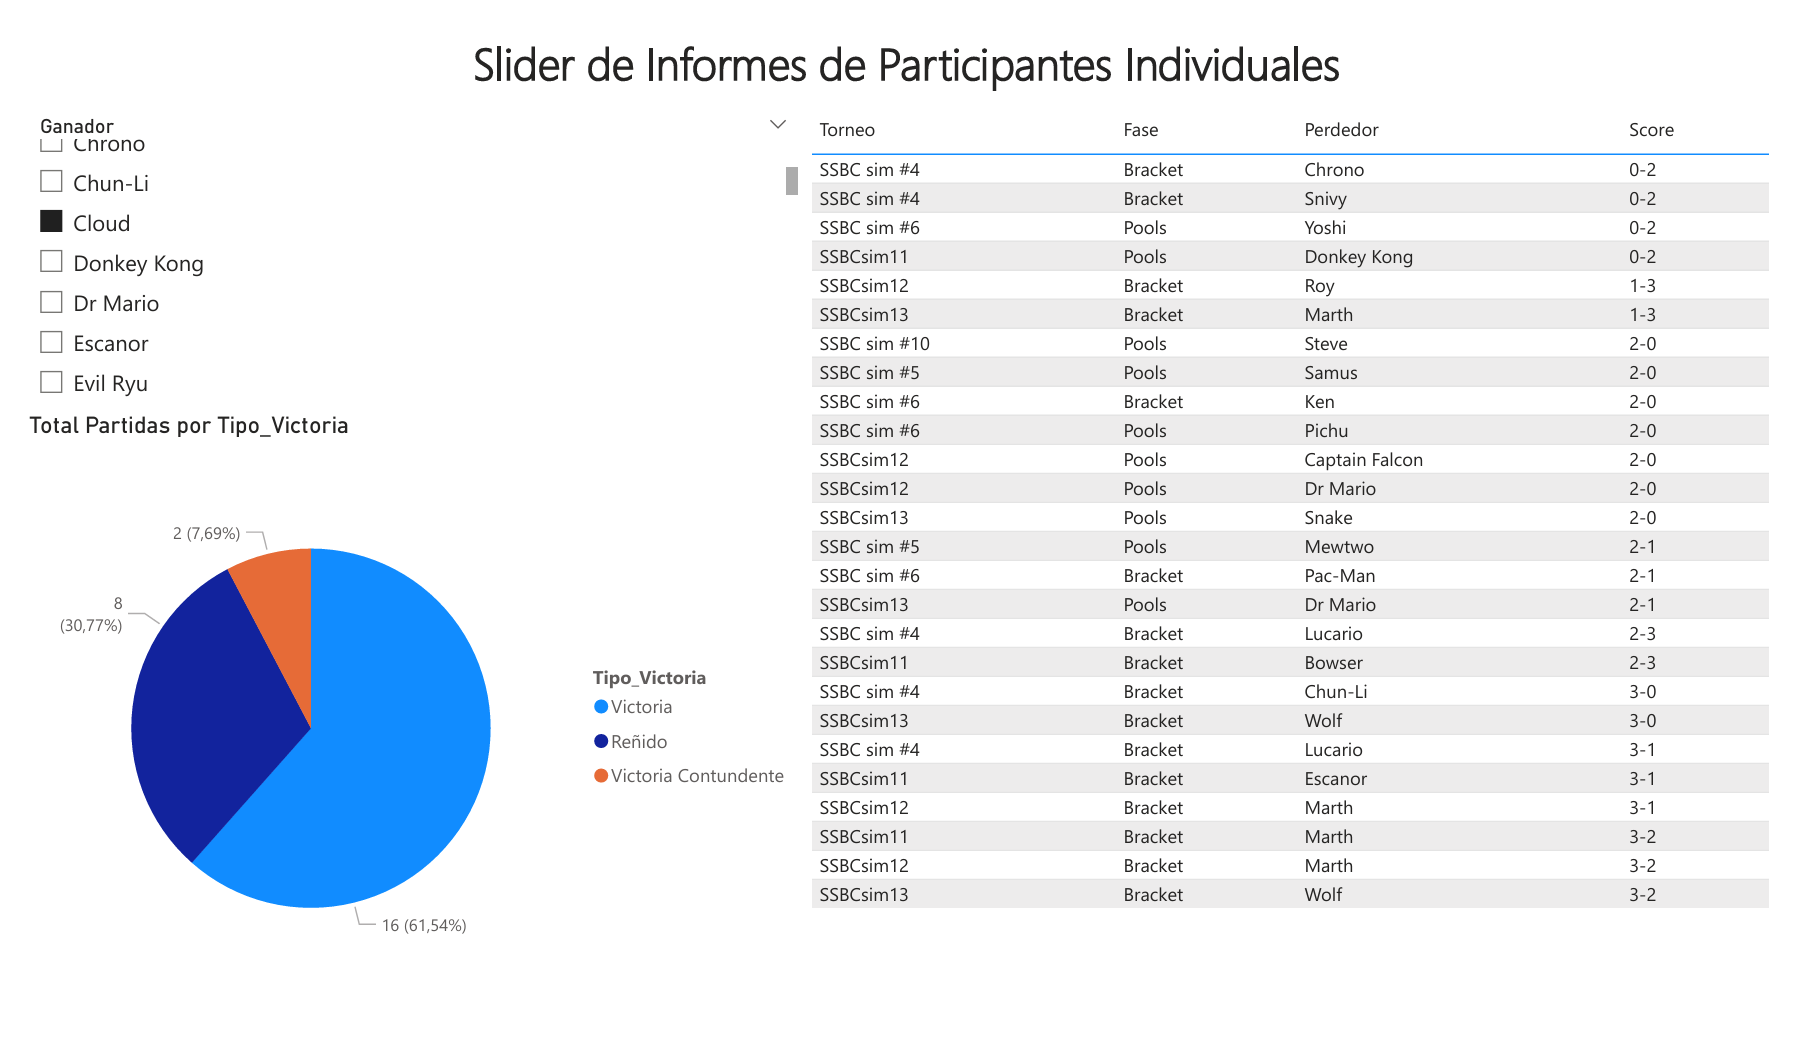

The dashboard page shown, as its layout file describes it:
{"tool":"powerbi","page":{"name":"Página 3","canvas":[1280,720],"ordinal":2},"visuals":[{"type":"slicer","fields":{"Values":["master_partidas_limpio.Ganador"]},"box":[0,59.7,566,218.9],"z":0},{"type":"pieChart","fields":{"Category":["master_partidas_limpio.Tipo_Victoria"],"Y":["master_partidas_limpio.Total Partidas"]},"box":[0,278.9,566.5,440.7],"z":1000},{"type":"tableEx","fields":{"Values":["master_partidas_limpio.Torneo","master_partidas_limpio.Fase","master_partidas_limpio.Perdedor","master_partidas_limpio.Score"]},"box":[566,59.7,714,659.3],"z":2000},{"type":"textbox","box":[0,0,1280,59.7],"z":3000}]}

Visuals, with their boxes in screenshot pixels (x1, y1, x2, y2), scaled from the page's 1280x720 canvas onto the 1818x1041 screenshot:
slicer - master_partidas_limpio.Ganador: rect(0, 86, 804, 403)
pieChart - master_partidas_limpio.Tipo_Victoria x master_partidas_limpio.Total Partidas: rect(0, 403, 805, 1040)
tableEx - master_partidas_limpio.Torneo x master_partidas_limpio.Fase: rect(804, 86, 1817, 1040)
textbox: rect(0, 0, 1817, 86)
